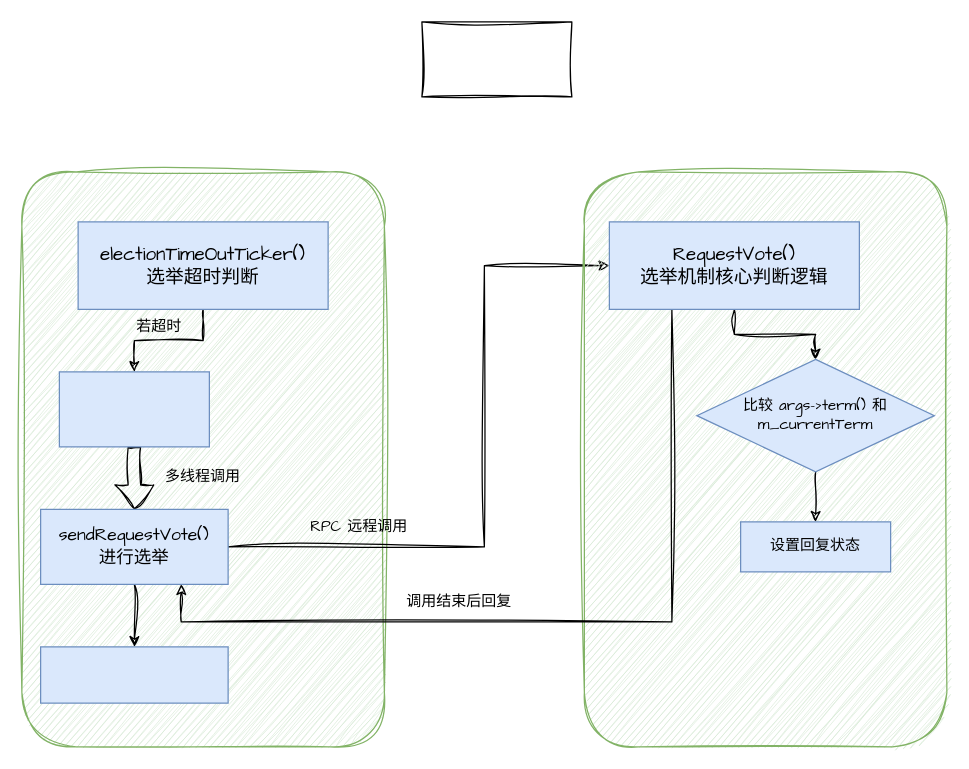
The diagram is 969 pixels wide and 769 high, and some of its shapes have lost their labels. The centre of each missing label's shape, as x and y in pixels:
"doElection() 进行选举" goes at point (133, 409).
"Leader 选举" goes at point (496, 59).
"term 判断，完成选举" goes at point (133, 674).
